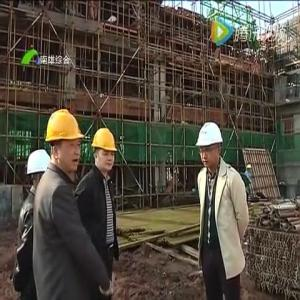white: (198, 122, 224, 169), (27, 148, 52, 190)
yellow: (47, 109, 82, 174), (92, 127, 116, 173)
